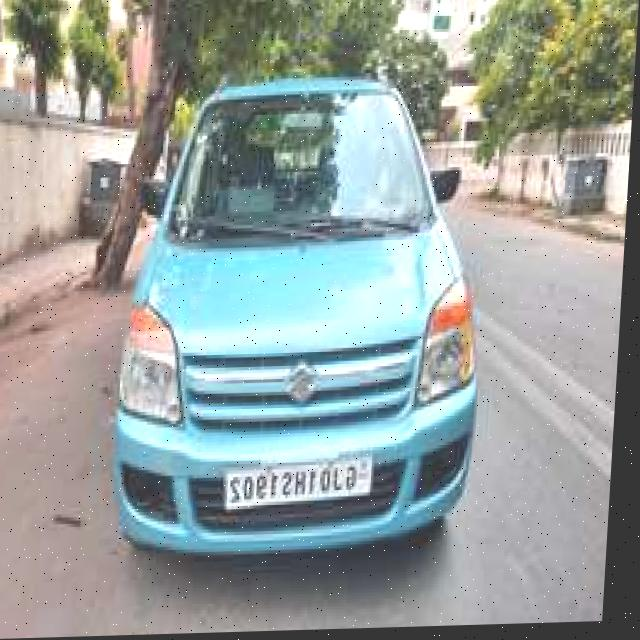plate: (228, 453, 383, 511)
